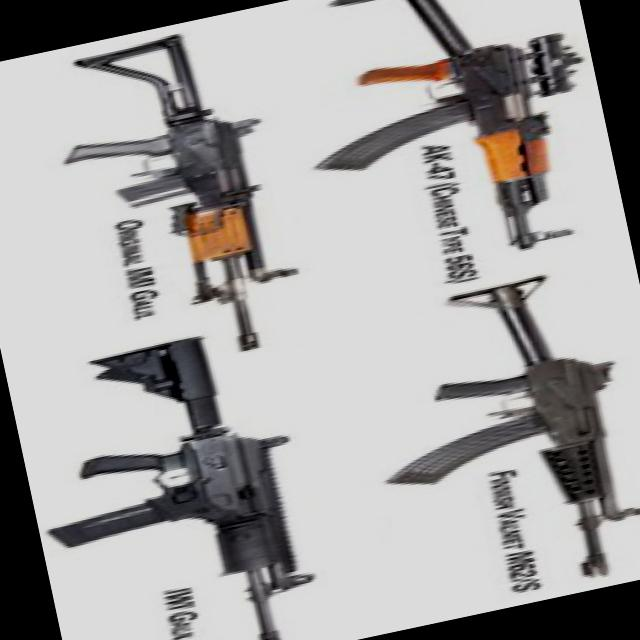long weapon: (348, 246, 639, 615), (11, 314, 322, 639)
